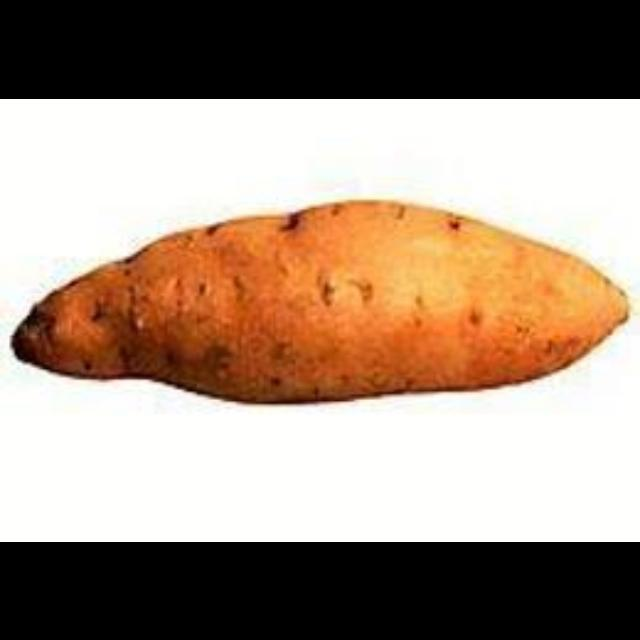Damaged potato: (0, 166, 636, 407)
